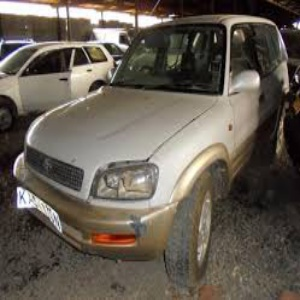bumper_scratch: (116, 206, 151, 240)
